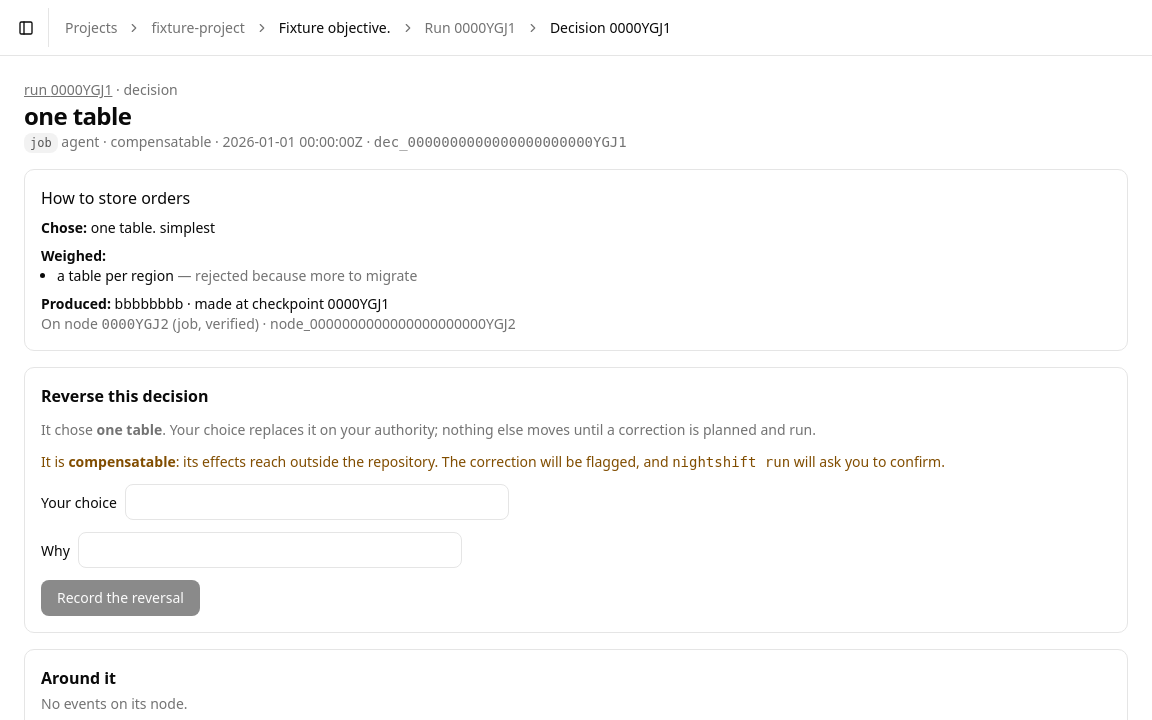
the decision page › refuses to reverse a reversal, and a decision already reversed
Check: the heading "one table" is shown, box [24,99,131,132]
Type "x" into the field labelled "Your choice". click: {"x": 317, "y": 502}
box: [125,484,509,520]
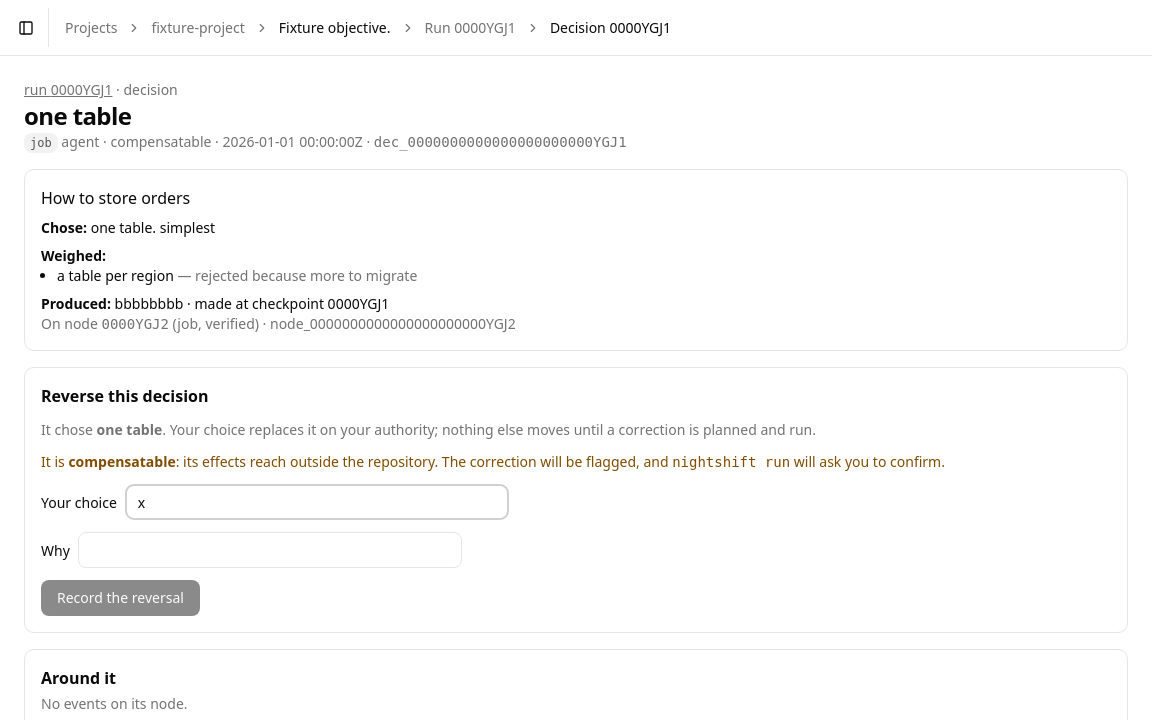
Type "y" into the field labelled "Why". click: {"x": 270, "y": 550}
box: [78,532,462,568]
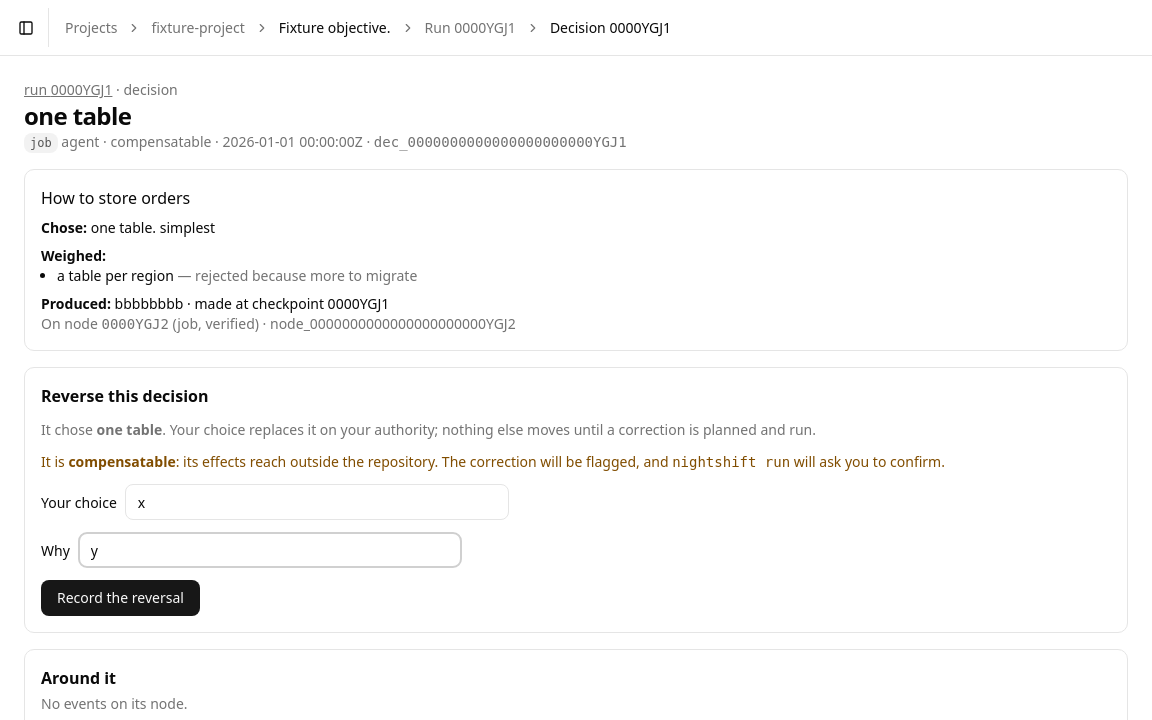
Click the button "Record the reversal". click: {"x": 120, "y": 598}
box: [41,580,200,616]
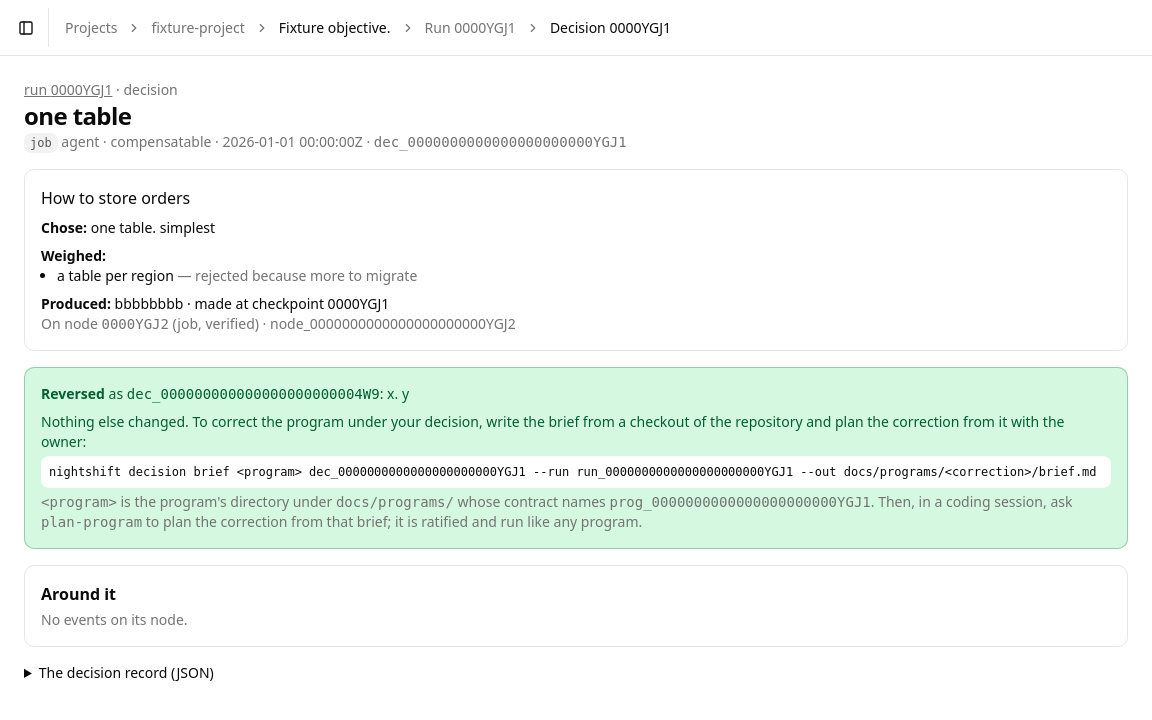
Check: the element with test id "next-step" is shown, box [24,367,1128,549]
